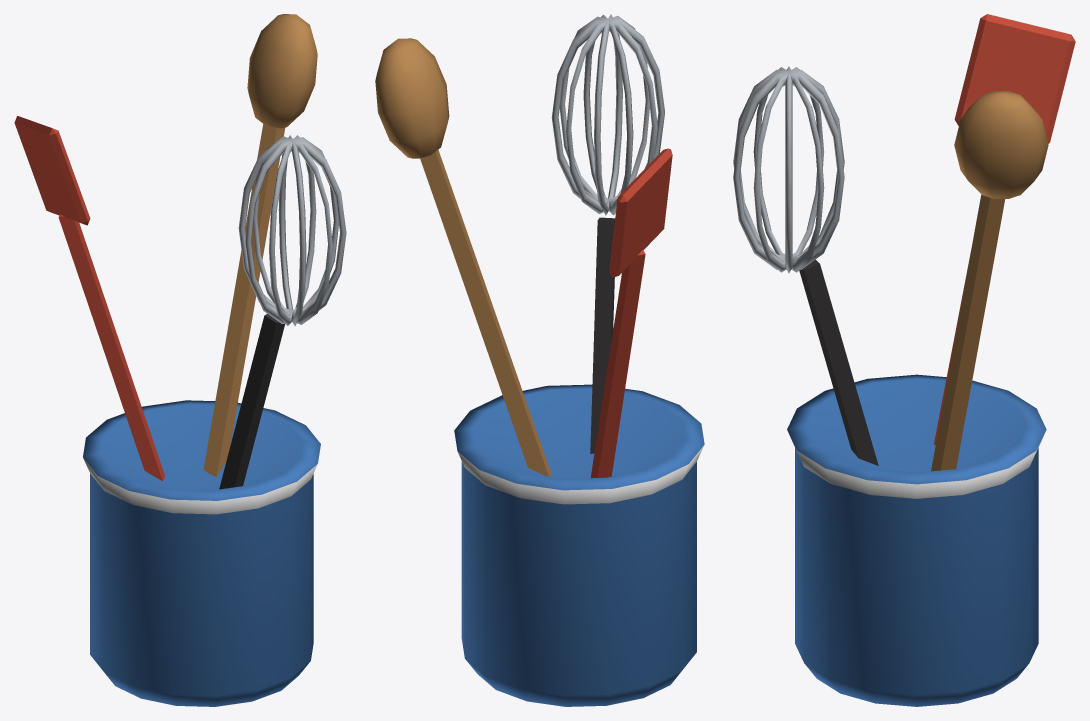
File: kitchen-deco1.glb
The picture shows the model from 3 angles, left to right: view 1: azimuth 30°, elevation 25°; view 2: azimuth 150°, elevation 25°; view 3: azimuth 270°, elevation 25°; orthographic projection. The views are drawn at different scales.
Parts seen in each view (by area): view 1: kitchen-deco1; view 2: kitchen-deco1; view 3: kitchen-deco1.
Part boxes in pixels (x1,y1,x2,y2): kitchen-deco1: (14,14,346,706); kitchen-deco1: (375,14,704,706); kitchen-deco1: (733,14,1075,706).
Bounding box in the file's own units: 1.7 × 3.57 × 1.74.
